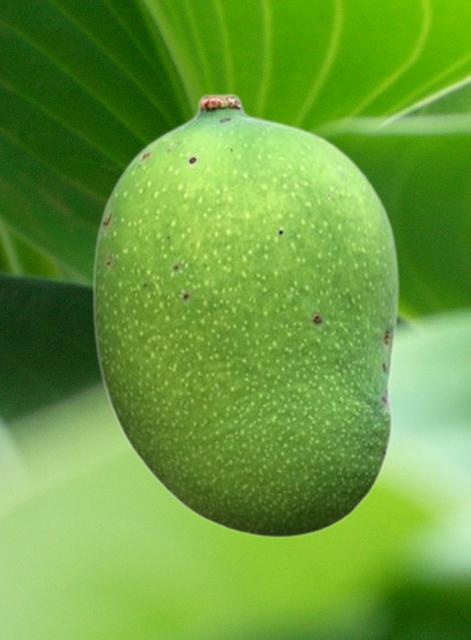green_mango: (91, 92, 398, 538)
